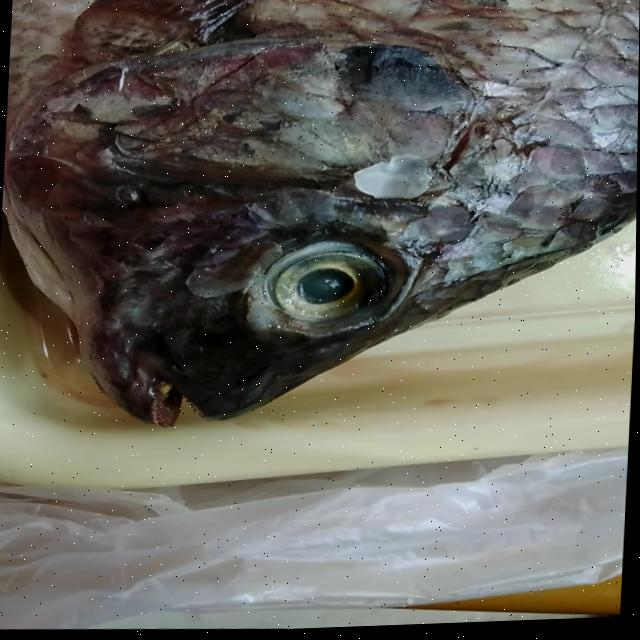Non-Fresh: (33, 0, 633, 214), (224, 205, 440, 370)
